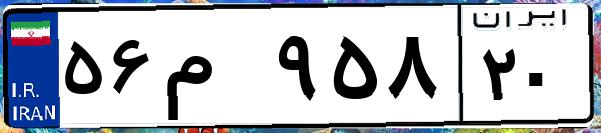0: (525, 38, 570, 115)
2: (475, 38, 525, 113)
5: (330, 28, 385, 110), (57, 26, 110, 100)
6: (110, 28, 158, 98)
8: (385, 28, 445, 110)
9: (270, 28, 330, 110)
م: (158, 20, 270, 120)
